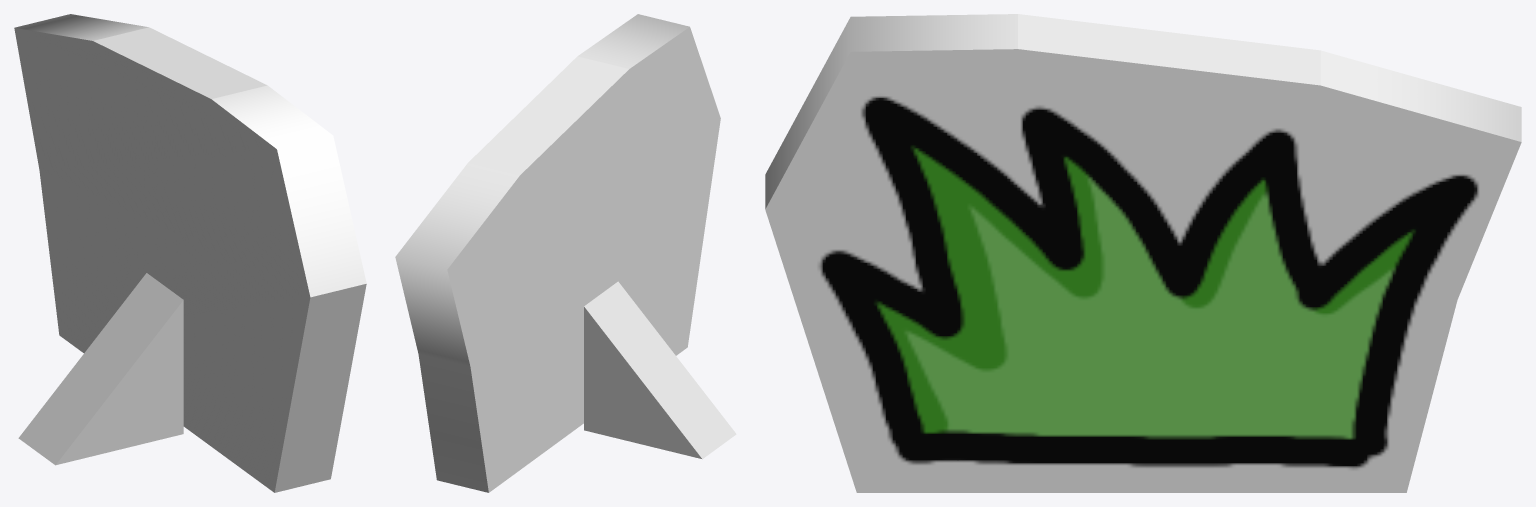
The model's file is grass.fbx.
3 views of the same model, side by side, from view 1: azimuth 30°, elevation 25°; view 2: azimuth 150°, elevation 25°; view 3: azimuth 270°, elevation 25° (orthographic). The views are drawn at different scales.
Visible parts, largest first — view 1: pCube6, pCube33; view 2: pCube6, pCube33; view 3: pCube6.
Boxes of the visible parts, x1,y1,x2,y2 form: pCube6: (14,14,366,492); pCube33: (18,273,183,465); pCube6: (395,14,720,492); pCube33: (584,281,736,459); pCube6: (765,14,1521,492).
Size of the model in its own units: 1.5 by 2.59 by 4.
